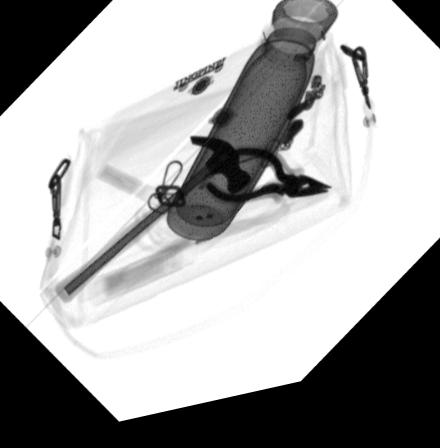Hammer: (51, 144, 250, 307)
Pliers: (200, 154, 328, 217)
